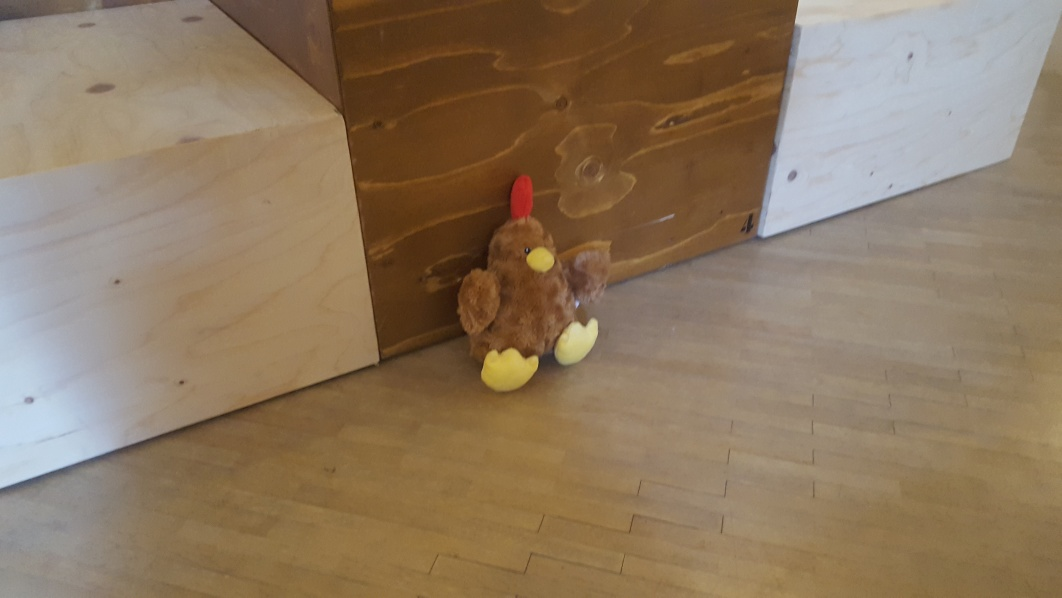chicken: (458, 172, 611, 391)
